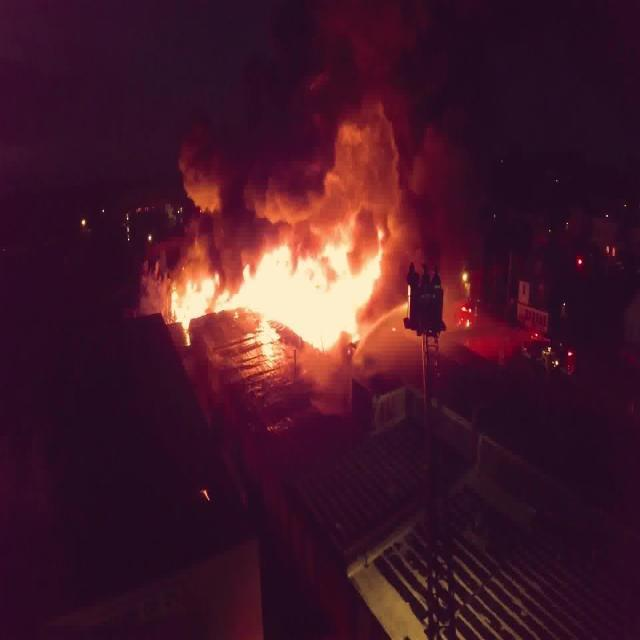Fire: (171, 236, 382, 350)
Smoke: (178, 0, 511, 236)
